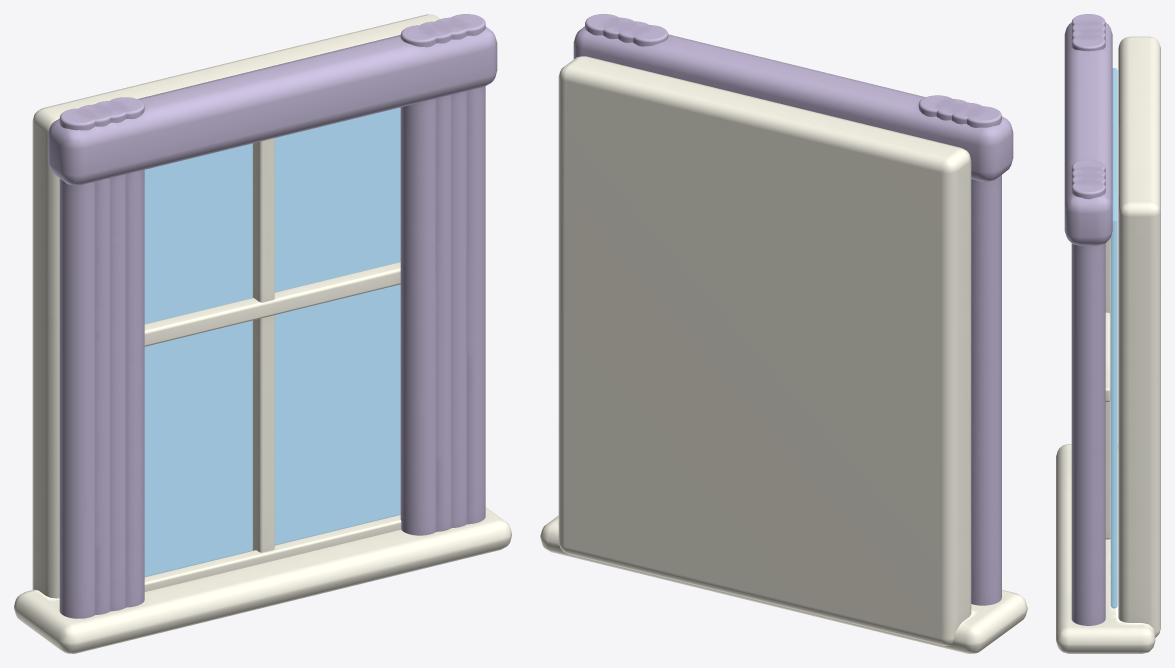
File: window8C.glb
3 renders of one model, left to right at view 1: azimuth 30°, elevation 25°; view 2: azimuth 150°, elevation 25°; view 3: azimuth 270°, elevation 25°, orthographic. The views are drawn at different scales.
Parts seen in each view (by area): view 1: Window glass, Curtain pelmet, Sill, Window frame, Curtain fold, Curtain fold.007, Window muntin, Curtain fold.004, Curtain fold.003, Curtain fold.002, Curtain fold.005, Curtain fold.001 (+3 smaller); view 2: Window frame, Curtain pelmet, Curtain fold, Sill; view 3: Window frame, Curtain fold.004, Curtain pelmet, Sill, Window glass, Window muntin, Window crossbar, Curtain fold.003, Curtain fold.006, Curtain fold.007, Curtain fold, Curtain fold.001 (+2 smaller).
Part boxes in pixels (x1,y1,x2,y2): Window glass: [144, 107, 400, 576]; Curtain pelmet: [48, 26, 497, 185]; Sill: [14, 507, 511, 653]; Window frame: [32, 14, 440, 598]; Curtain fold: [59, 108, 95, 618]; Curtain fold.007: [400, 25, 436, 535]; Window muntin: [252, 138, 274, 552]; Curtain fold.004: [449, 14, 485, 524]; Curtain fold.003: [110, 97, 144, 607]; Curtain fold.002: [93, 101, 126, 611]; Curtain fold.005: [434, 17, 467, 527]; Curtain fold.001: [78, 104, 110, 614]; Window frame: [558, 56, 971, 645]; Curtain pelmet: [573, 26, 1013, 181]; Curtain fold: [966, 106, 1001, 605]; Sill: [540, 515, 1027, 653]; Window frame: [1118, 36, 1160, 637]; Curtain fold.004: [1071, 179, 1105, 625]; Curtain pelmet: [1064, 22, 1112, 245]; Sill: [1056, 444, 1155, 653]; Window glass: [1110, 68, 1117, 608]; Window muntin: [1105, 238, 1110, 539]; Window crossbar: [1105, 312, 1110, 402]; Curtain fold.003: [1071, 34, 1105, 51]; Curtain fold.006: [1071, 166, 1105, 179]; Curtain fold.007: [1071, 159, 1105, 172]; Curtain fold: [1071, 14, 1105, 27]; Curtain fold.001: [1071, 20, 1105, 33].
Bounding box in the file's own units: 1.61 × 1.78 × 0.37.
